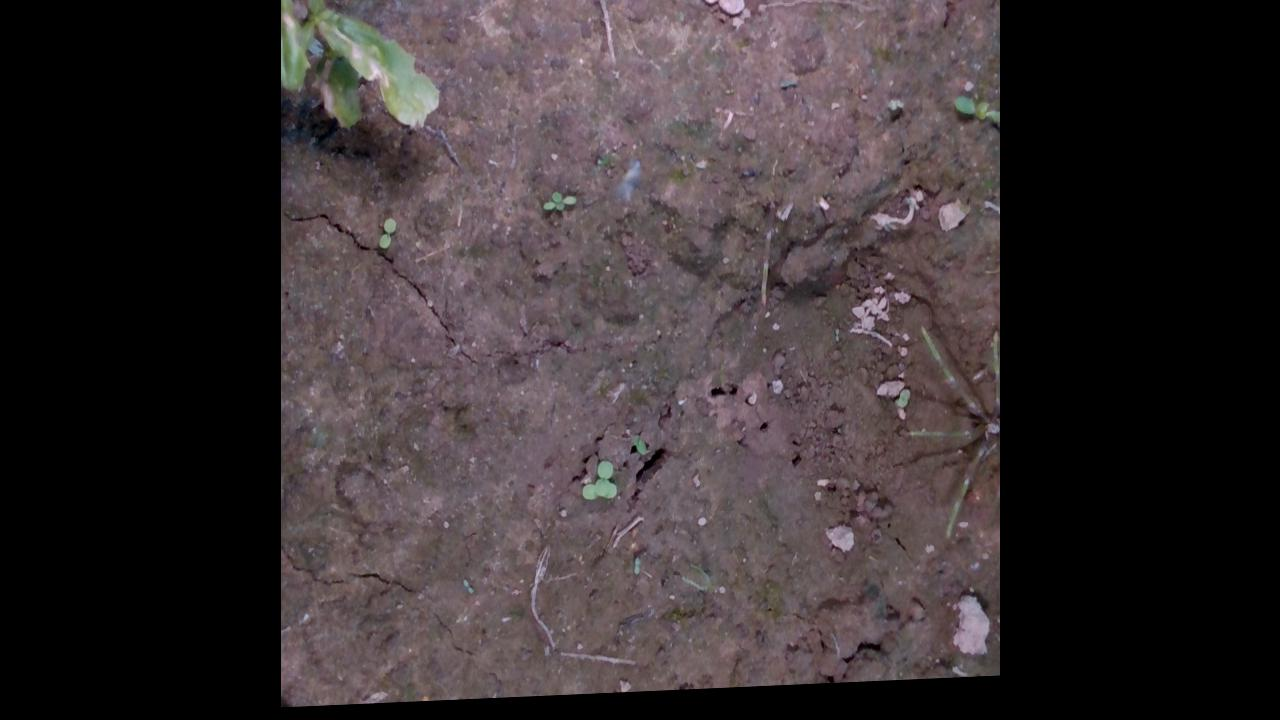weed: (540, 184, 581, 219), (379, 215, 402, 257)
